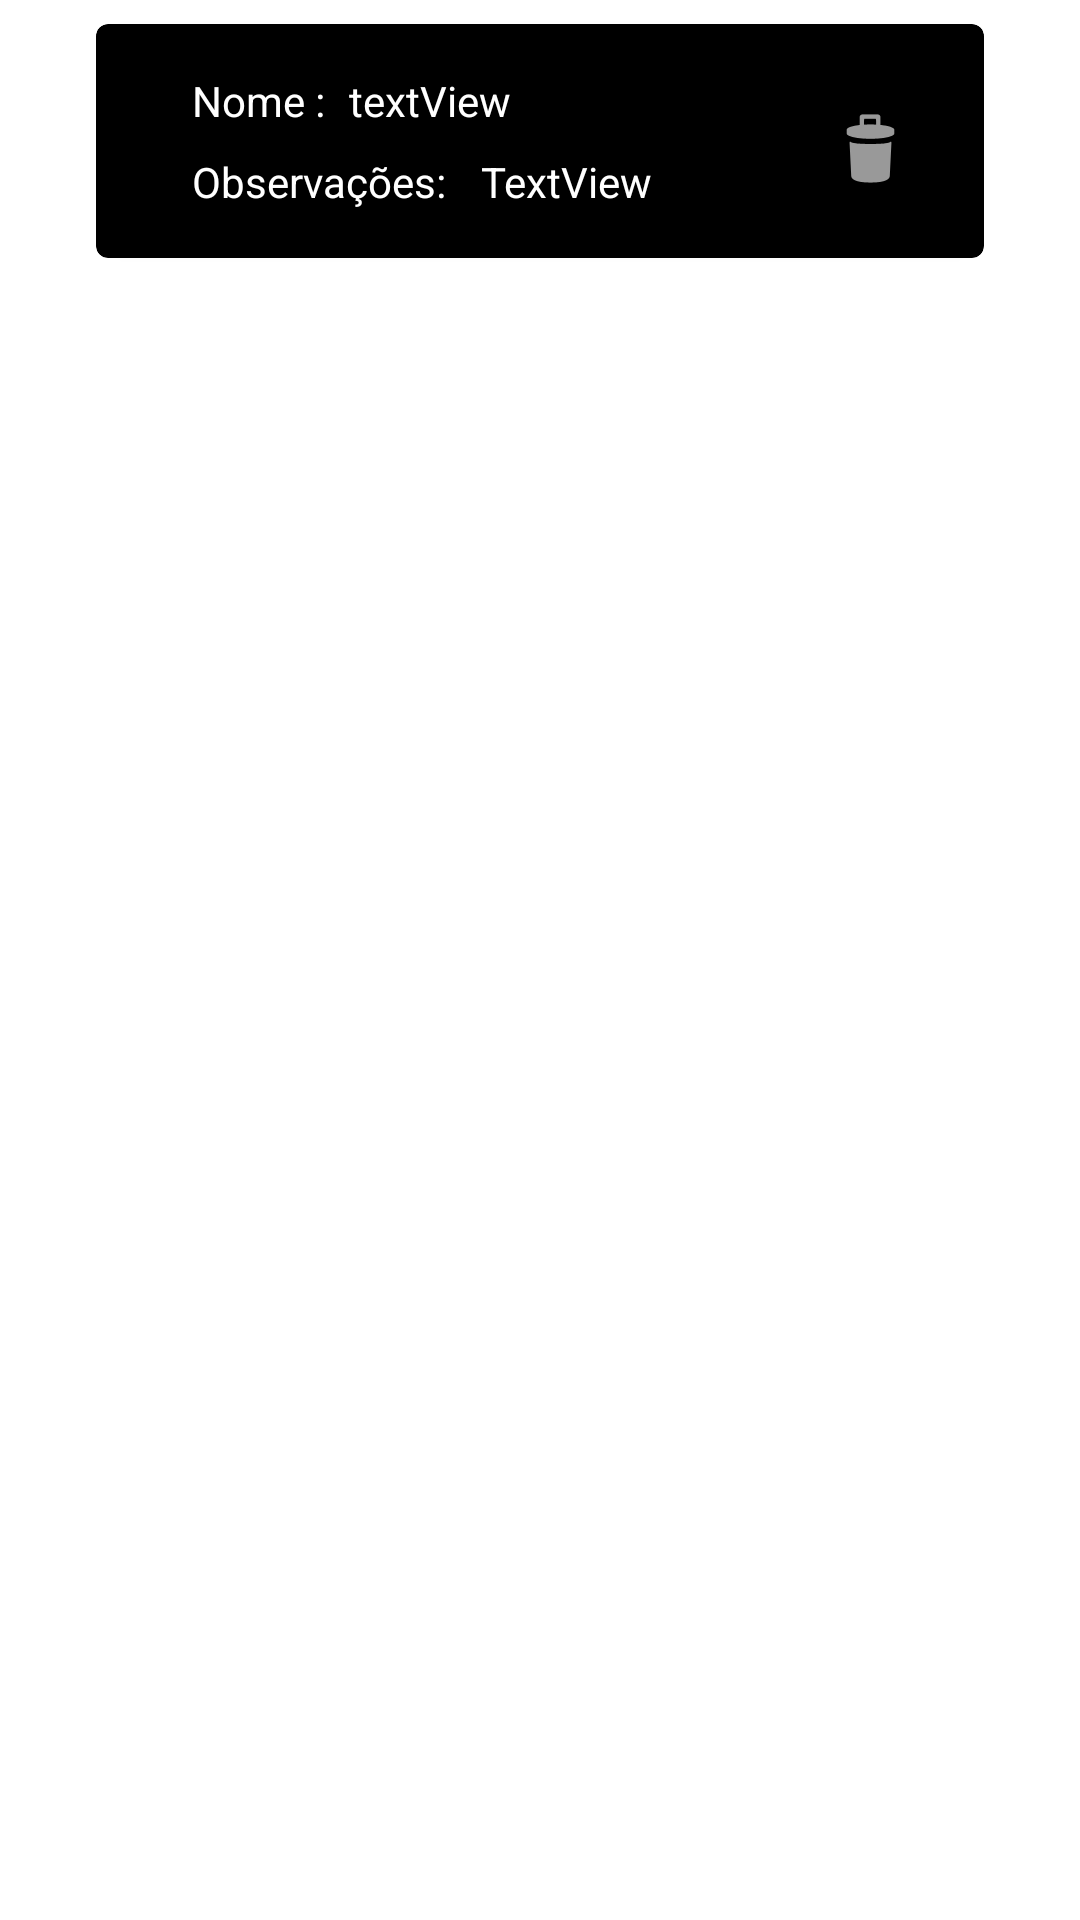

Icon bounding boxes for this 1080px×1920px phone screenshot, format (x1, y1, x2, y2):
delete: (846, 114, 895, 183)
